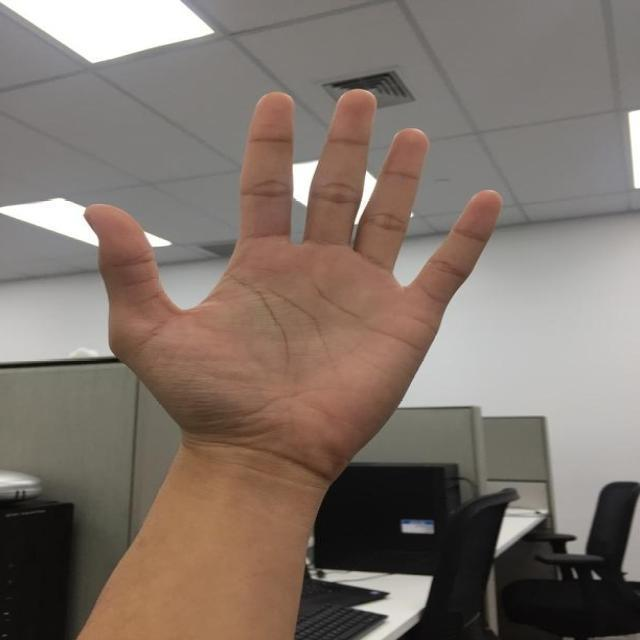hand: (79, 84, 508, 638)
